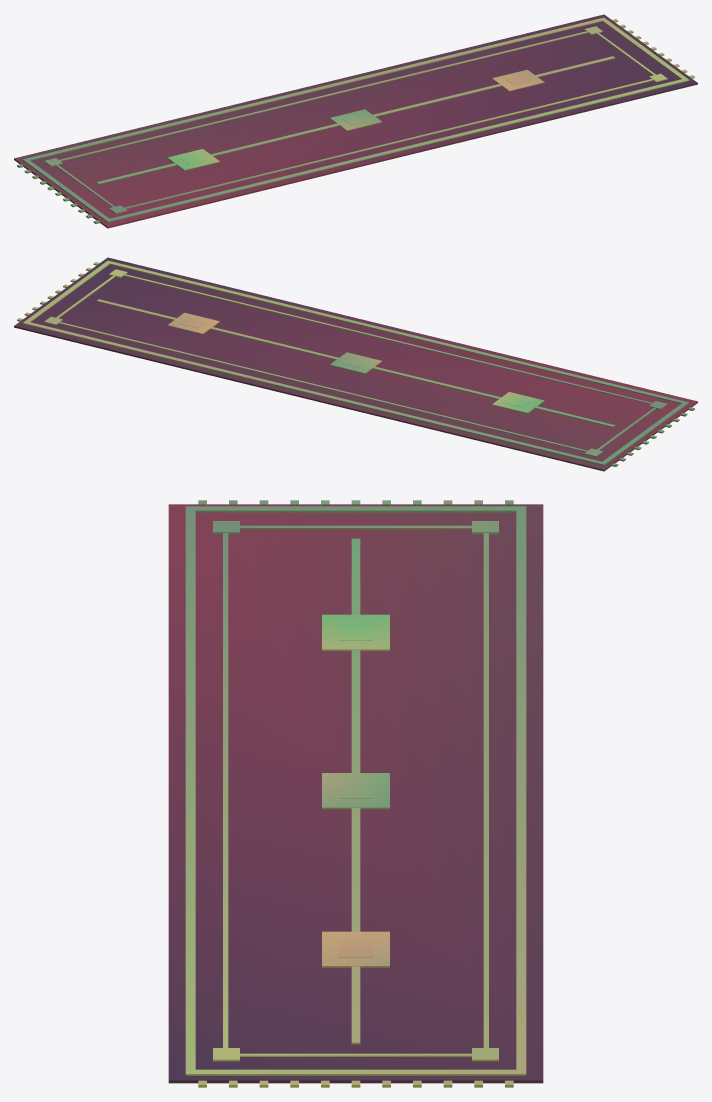
The model's file is carpet_runner_8m.glb.
The picture shows the model from 3 angles, top to bottom: view 1: azimuth 30°, elevation 25°; view 2: azimuth 150°, elevation 25°; view 3: azimuth 270°, elevation 25°; orthographic projection. The views are drawn at different scales.
Visible parts, largest first — view 1: carpet_field, carpet_border; view 2: carpet_field, carpet_border; view 3: carpet_field, carpet_border.
Part boxes in pixels (<box>): carpet_field: <box>14,14,697,228</box>; carpet_border: <box>17,17,694,223</box>; carpet_field: <box>14,257,697,471</box>; carpet_border: <box>17,260,694,466</box>; carpet_field: <box>168,504,543,1083</box>; carpet_border: <box>185,500,526,1087</box>.
Bounding box in the file's own units: 8.12 × 0.034 × 2.2.
